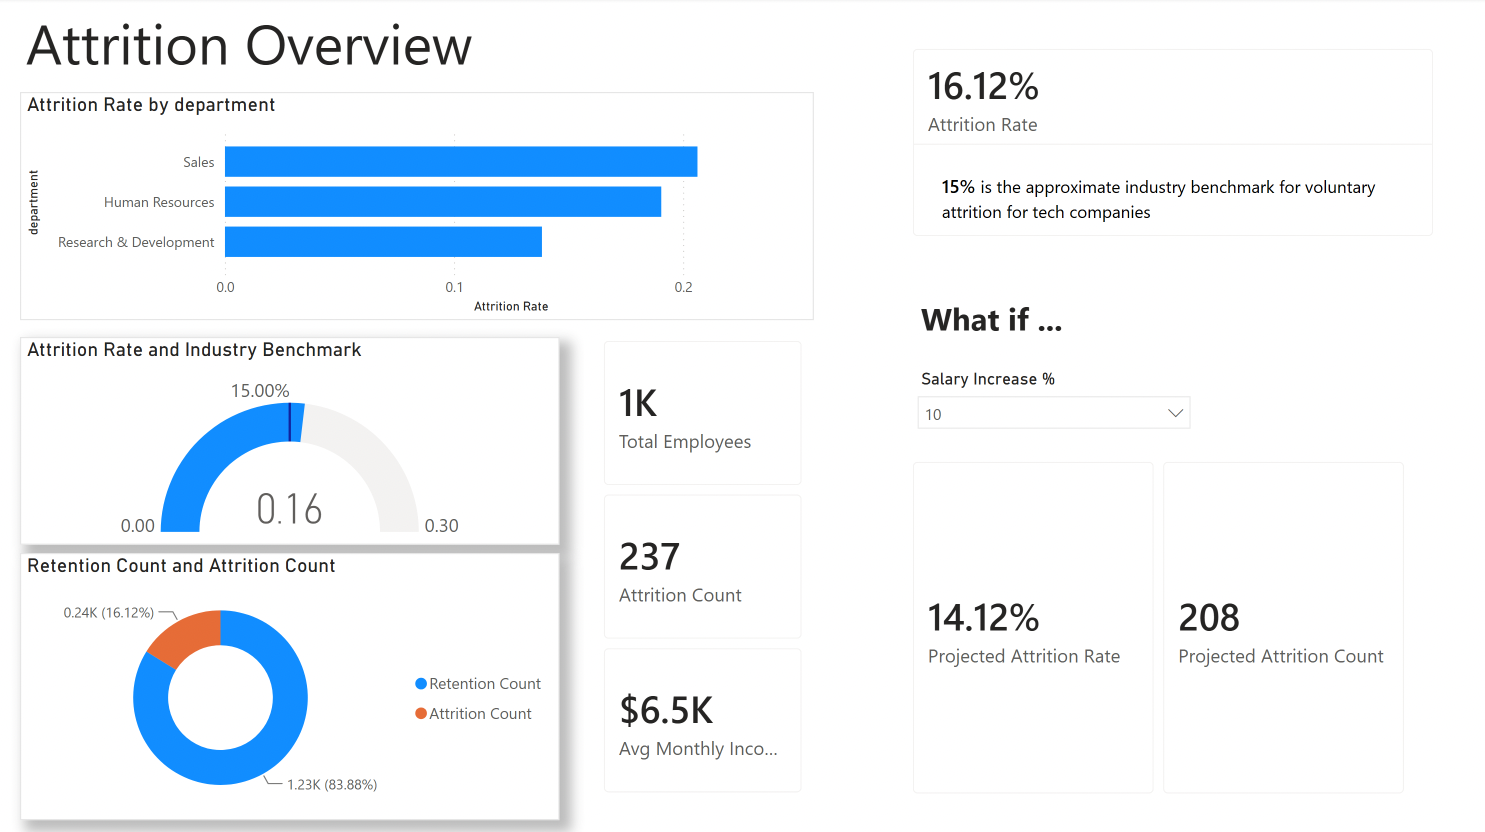

This screenshot's page, from the dashboard's own definition file:
{"tool":"powerbi","page":{"name":"Page 1 - Attrition Overview","canvas":[1280,720],"ordinal":0},"visuals":[{"type":"cardVisual","fields":{"Data":["_Measures.Attrition Rate"]},"box":[768.3,27,481.7,195.9],"z":0},{"type":"gauge","fields":{"Y":["_Measures.Attrition Rate"],"TargetValue":["_Measures.Industry Benchmark"]},"box":[18.3,290.9,463.5,178.4],"z":1000},{"type":"donutChart","fields":{"Y":["_Measures.Attrition Count","_Measures.Retention Count"]},"box":[18.3,476.6,463.5,229.5],"z":2000},{"type":"textbox","box":[18.3,0,457.6,91.4],"z":3000},{"type":"barChart","fields":{"Category":["agg_attrition_by_department.department"],"Y":["_Measures.Attrition Rate"]},"box":[18.3,81.1,682,195.9],"z":4000},{"type":"cardVisual","fields":{"Data":["_Measures.Total Employees","_Measures.Attrition Count","_Measures.Avg Monthly Income"]},"box":[502.9,277.1,204.7,423.3],"z":5000},{"type":"slicer","fields":{"Values":["Salary Increase %.Salary Increase %"]},"box":[779.3,313.6,254.4,66.5],"z":6000},{"type":"cardVisual","fields":{"Data":["_Measures.Projected Attrition Rate","_Measures.Projected Attrition Count"]},"box":[768.3,381.6,420.3,318.7],"z":7000},{"type":"textbox","box":[786.6,251.5,160.1,50.4],"z":8000}]}

Visuals, with their boxes in screenshot pixels (x1, y1, x2, y2), scaled from the page's 1280x720 canvas onto the 1485x832 screenshot:
cardVisual - _Measures.Attrition Rate: {"left": 891, "top": 31, "right": 1450, "bottom": 258}
gauge - _Measures.Attrition Rate x _Measures.Industry Benchmark: {"left": 21, "top": 336, "right": 559, "bottom": 542}
donutChart - _Measures.Attrition Count x _Measures.Retention Count: {"left": 21, "top": 551, "right": 559, "bottom": 816}
textbox: {"left": 21, "top": 0, "right": 552, "bottom": 106}
barChart - agg_attrition_by_department.department x _Measures.Attrition Rate: {"left": 21, "top": 94, "right": 812, "bottom": 320}
cardVisual - _Measures.Total Employees x _Measures.Attrition Count: {"left": 583, "top": 320, "right": 821, "bottom": 809}
slicer - Salary Increase %.Salary Increase %: {"left": 904, "top": 362, "right": 1199, "bottom": 439}
cardVisual - _Measures.Projected Attrition Rate x _Measures.Projected Attrition Count: {"left": 891, "top": 441, "right": 1379, "bottom": 809}
textbox: {"left": 913, "top": 291, "right": 1098, "bottom": 349}
